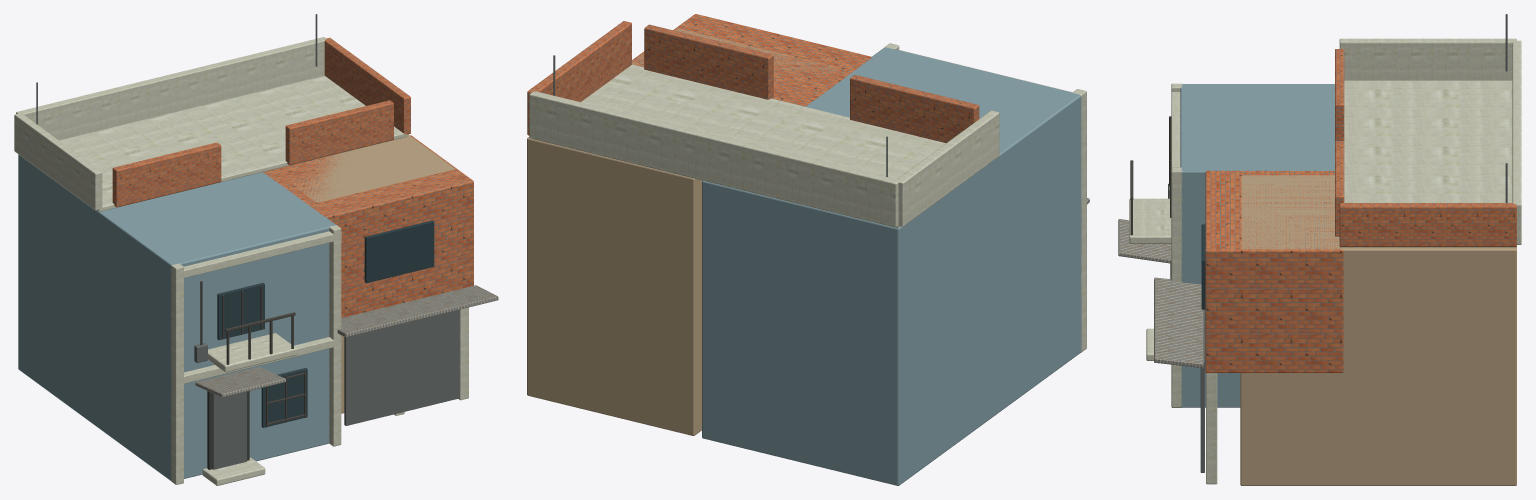
Rendered from lajes_modulo_d.glb.
3 renders of one model, left to right at view 1: azimuth 30°, elevation 25°; view 2: azimuth 150°, elevation 25°; view 3: azimuth 270°, elevation 25°, orthographic. The views are drawn at different scales.
Parts seen in each view (by area): view 1: lajes_modulo_d; view 2: lajes_modulo_d; view 3: lajes_modulo_d.
Boxes of the visible parts, x1,y1,x2,y2 form: lajes_modulo_d: [14, 14, 498, 485]; lajes_modulo_d: [527, 14, 1089, 485]; lajes_modulo_d: [1118, 14, 1521, 485].
Bounding box in the file's own units: 7.69 × 6.62 × 7.73.
10 materials, 3 textured.
